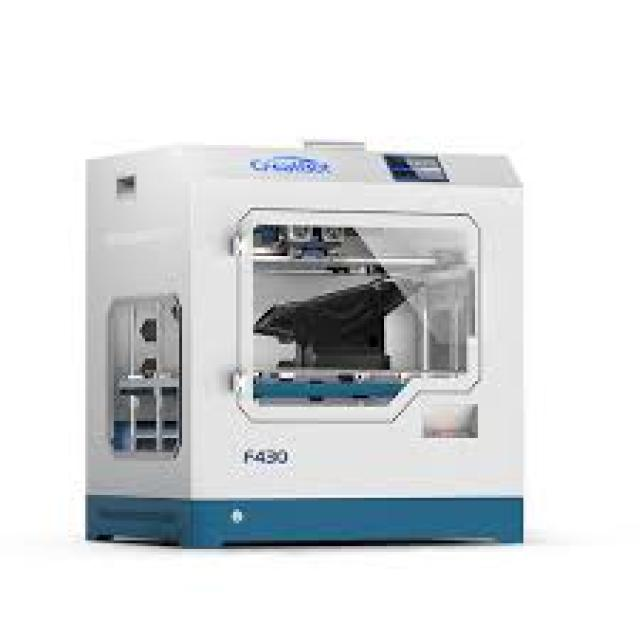printer: (82, 137, 524, 546)
